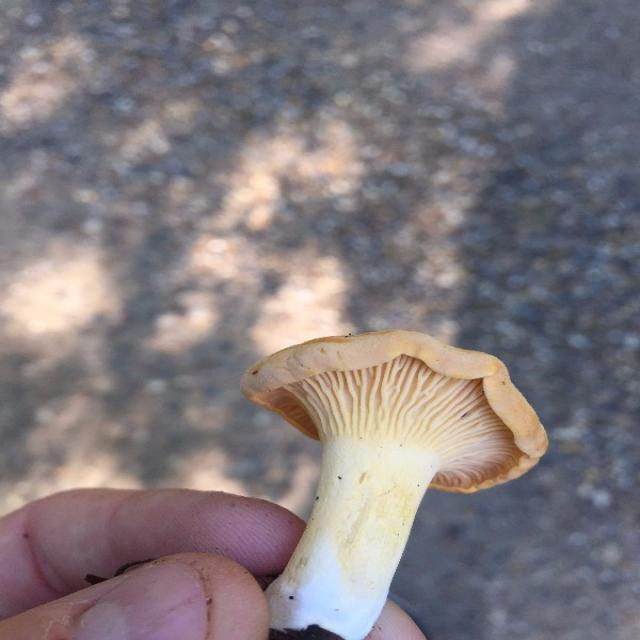Cantharellus cibarius: (249, 329, 548, 640)
